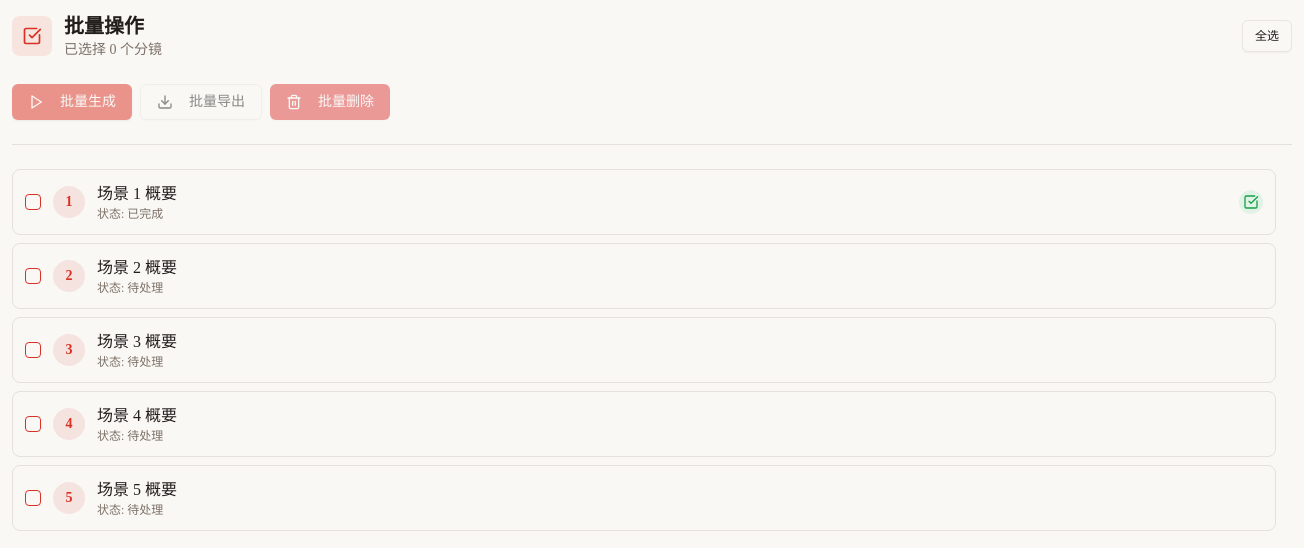
Test case: BatchOperations › 分镜选择 › 应该能够全选所有分镜
The width and height of the screenshot is (1304, 548).
Click the button "全选" at (1267, 36), box [1242,20,1292,52]
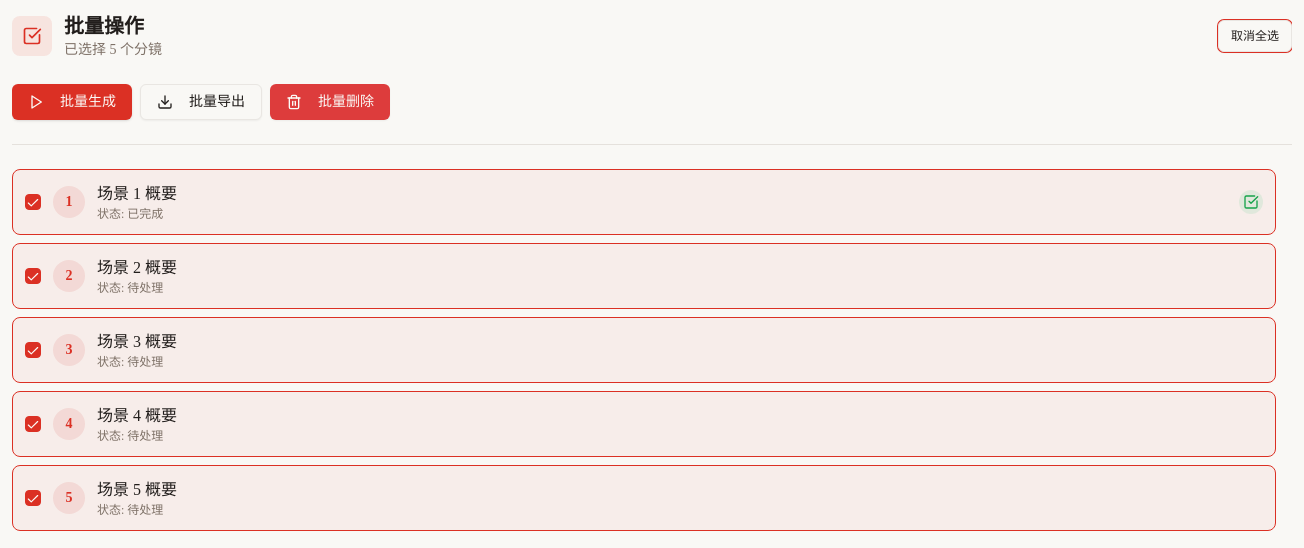
Check: the text "已选择 5 个分镜" is shown, box [64,40,162,60]
